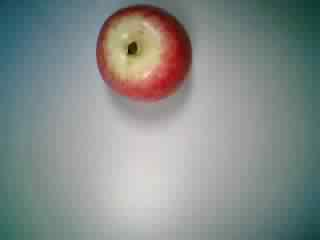apple: (95, 4, 199, 108)
